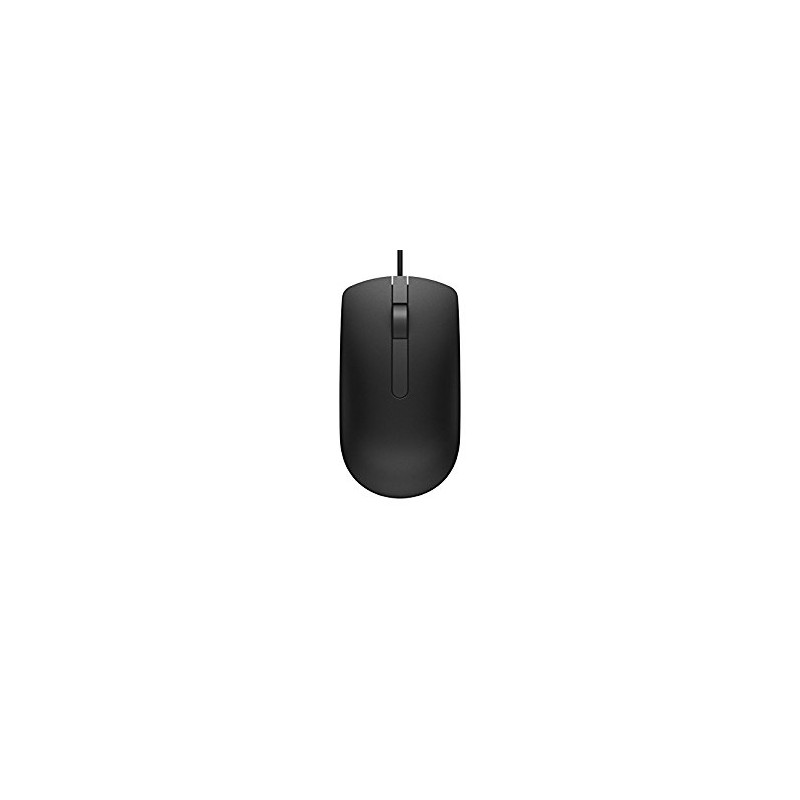dell-mouse-ms116: (327, 236, 461, 503)
